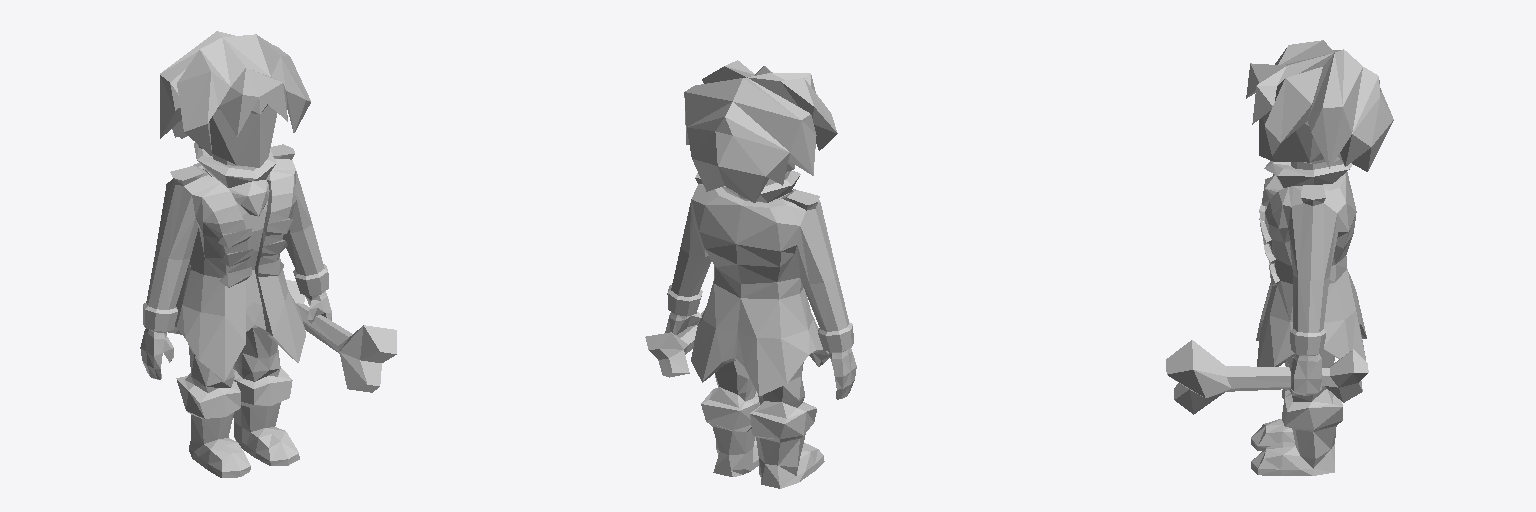
The model's file is BellardArmsDown.obj.
3 views of the same model, side by side, from view 1: azimuth 30°, elevation 25°; view 2: azimuth 150°, elevation 25°; view 3: azimuth 270°, elevation 25° (orthographic).
Parts seen in each view (by area): view 1: Bellard1; view 2: Bellard1; view 3: Bellard1.
Part boxes in pixels (x1,y1,x2,y2): Bellard1: (140,31,396,477); Bellard1: (645,60,856,488); Bellard1: (1166,40,1393,475).
Bounding box in the file's own units: 2.33 × 4.63 × 2.35.